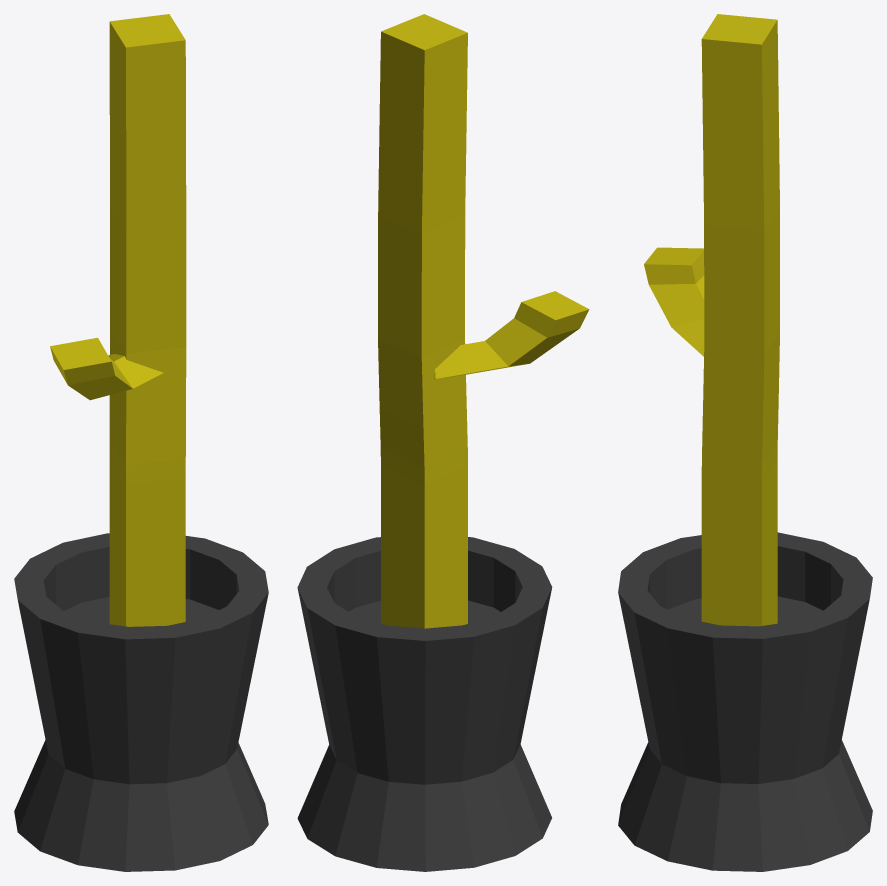
File: cactus_grande_01_000009.obj
The picture shows the model from 3 angles, left to right: view 1: azimuth 30°, elevation 25°; view 2: azimuth 150°, elevation 25°; view 3: azimuth 270°, elevation 25°; orthographic projection.
Parts seen in each view (by area): view 1: Cylinder, NurbsPath.001, NurbsPath.002; view 2: Cylinder, NurbsPath.001, NurbsPath.002; view 3: Cylinder, NurbsPath.001, NurbsPath.002.
Boxes of the visible parts, <box> form: Cylinder: <box>14,533,268,871</box>; NurbsPath.001: <box>109,14,186,626</box>; NurbsPath.002: <box>50,337,163,400</box>; Cylinder: <box>297,537,552,871</box>; NurbsPath.001: <box>378,14,467,628</box>; NurbsPath.002: <box>434,291,589,379</box>; Cylinder: <box>618,532,872,871</box>; NurbsPath.001: <box>701,14,779,626</box>; NurbsPath.002: <box>644,247,704,356</box>.
Size of the model in its own units: 1.35 by 4.41 by 1.29.
